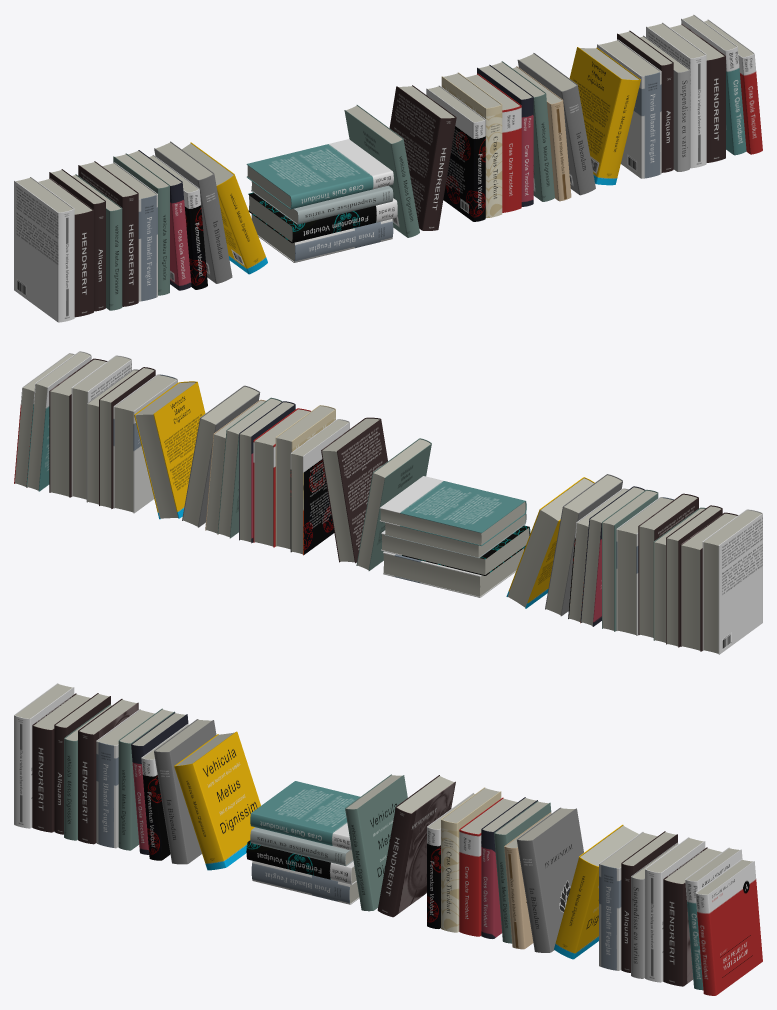
File: libri3.fbx
3 views of the same model, one above another, from view 1: azimuth 30°, elevation 25°; view 2: azimuth 150°, elevation 25°; view 3: azimuth 330°, elevation 25° (orthographic).
Parts seen in each view (by area): view 1: AM216_05_book_28_1, AM216_05_book_23_1, AM216_05_book_15_1, AM216_05_book_21_1, AM216_05_book_09_1, AM216_05_book_24_1, AM216_05_book_16_1, AM216_05_book_12_1, AM216_05_book_27_1, AM216_05_book_18_1, AM216_05_book_22_1, AM216_05_book_25_1 (+9 smaller); view 2: AM216_05_book_28_1, AM216_05_book_23_1, AM216_05_book_15_1, AM216_05_book_21_1, AM216_05_book_09_1, AM216_05_book_24_1, AM216_05_book_12_1, AM216_05_book_27_1, AM216_05_book_16_1, AM216_05_book_18_1, AM216_05_book_22_1, AM216_05_book_25_1 (+9 smaller); view 3: AM216_05_book_23_1, AM216_05_book_21_1, AM216_05_book_15_1, AM216_05_book_31_1, AM216_05_book_27_1, AM216_05_book_16_1, AM216_05_book_28_1, AM216_05_book_12_1, AM216_05_book_09_1, AM216_05_book_22_1, AM216_05_book_18_1, AM216_05_book_25_1 (+9 smaller).
Boxes of the visible parts, left/top/right/bottom form: AM216_05_book_28_1: left=14, top=22, right=706, bottom=322; AM216_05_book_23_1: left=182, top=47, right=640, bottom=274; AM216_05_book_15_1: left=78, top=85, right=456, bottom=306; AM216_05_book_21_1: left=154, top=53, right=595, bottom=283; AM216_05_book_09_1: left=246, top=139, right=393, bottom=209; AM216_05_book_24_1: left=149, top=85, right=485, bottom=289; AM216_05_book_16_1: left=72, top=105, right=419, bottom=310; AM216_05_book_12_1: left=102, top=162, right=393, bottom=301; AM216_05_book_27_1: left=38, top=24, right=725, bottom=317; AM216_05_book_18_1: left=128, top=64, right=533, bottom=290; AM216_05_book_22_1: left=113, top=61, right=554, bottom=295; AM216_05_book_25_1: left=49, top=30, right=673, bottom=311; AM216_05_book_28_1: left=71, top=355, right=762, bottom=654; AM216_05_book_23_1: left=134, top=381, right=594, bottom=608; AM216_05_book_15_1: left=321, top=417, right=698, bottom=637; AM216_05_book_21_1: left=182, top=385, right=622, bottom=616; AM216_05_book_09_1: left=379, top=476, right=526, bottom=545; AM216_05_book_24_1: left=290, top=419, right=628, bottom=623; AM216_05_book_12_1: left=383, top=497, right=673, bottom=635; AM216_05_book_27_1: left=49, top=358, right=738, bottom=651; AM216_05_book_16_1: left=356, top=438, right=705, bottom=642; AM216_05_book_18_1: left=239, top=401, right=644, bottom=626; AM216_05_book_22_1: left=217, top=397, right=658, bottom=631; AM216_05_book_25_1: left=99, top=367, right=722, bottom=647; AM216_05_book_23_1: left=174, top=731, right=638, bottom=959; AM216_05_book_21_1: left=154, top=719, right=583, bottom=952; AM216_05_book_15_1: left=78, top=699, right=455, bottom=917; AM216_05_book_31_1: left=695, top=859, right=762, bottom=995; AM216_05_book_27_1: left=32, top=693, right=721, bottom=986; AM216_05_book_16_1: left=64, top=704, right=407, bottom=911; AM216_05_book_28_1: left=14, top=683, right=705, bottom=982; AM216_05_book_12_1: left=96, top=709, right=359, bottom=904; AM216_05_book_09_1: left=250, top=781, right=360, bottom=850; AM216_05_book_22_1: left=118, top=708, right=551, bottom=943; AM216_05_book_18_1: left=131, top=712, right=537, bottom=938; AM216_05_book_25_1: left=54, top=693, right=677, bottom=972.
Size of the model in its own units: 140 by 21.1 by 16.67.
